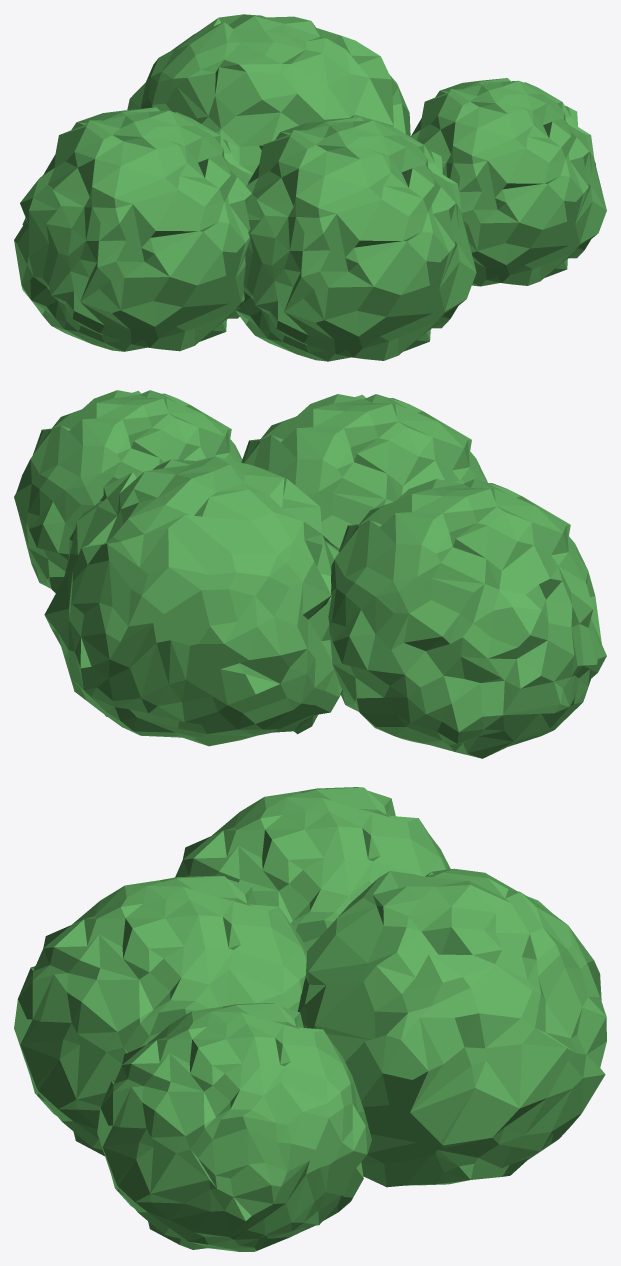
File: arbustoPeqVarios4.glb
3 renders of one model, top to bottom at view 1: azimuth 30°, elevation 25°; view 2: azimuth 150°, elevation 25°; view 3: azimuth 270°, elevation 25°, orthographic. The views are drawn at different scales.
Visible parts, largest first — view 1: Icosphere.001; view 2: Icosphere.001; view 3: Icosphere.001.
Boxes of the visible parts, bbox=[...] form: Icosphere.001: bbox=[14, 14, 606, 361]; Icosphere.001: bbox=[14, 390, 606, 758]; Icosphere.001: bbox=[14, 787, 606, 1251].
Size of the model in its own units: 2.27 by 0.9564 by 1.86.
